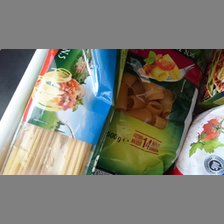pasta: (1, 50, 124, 175)
